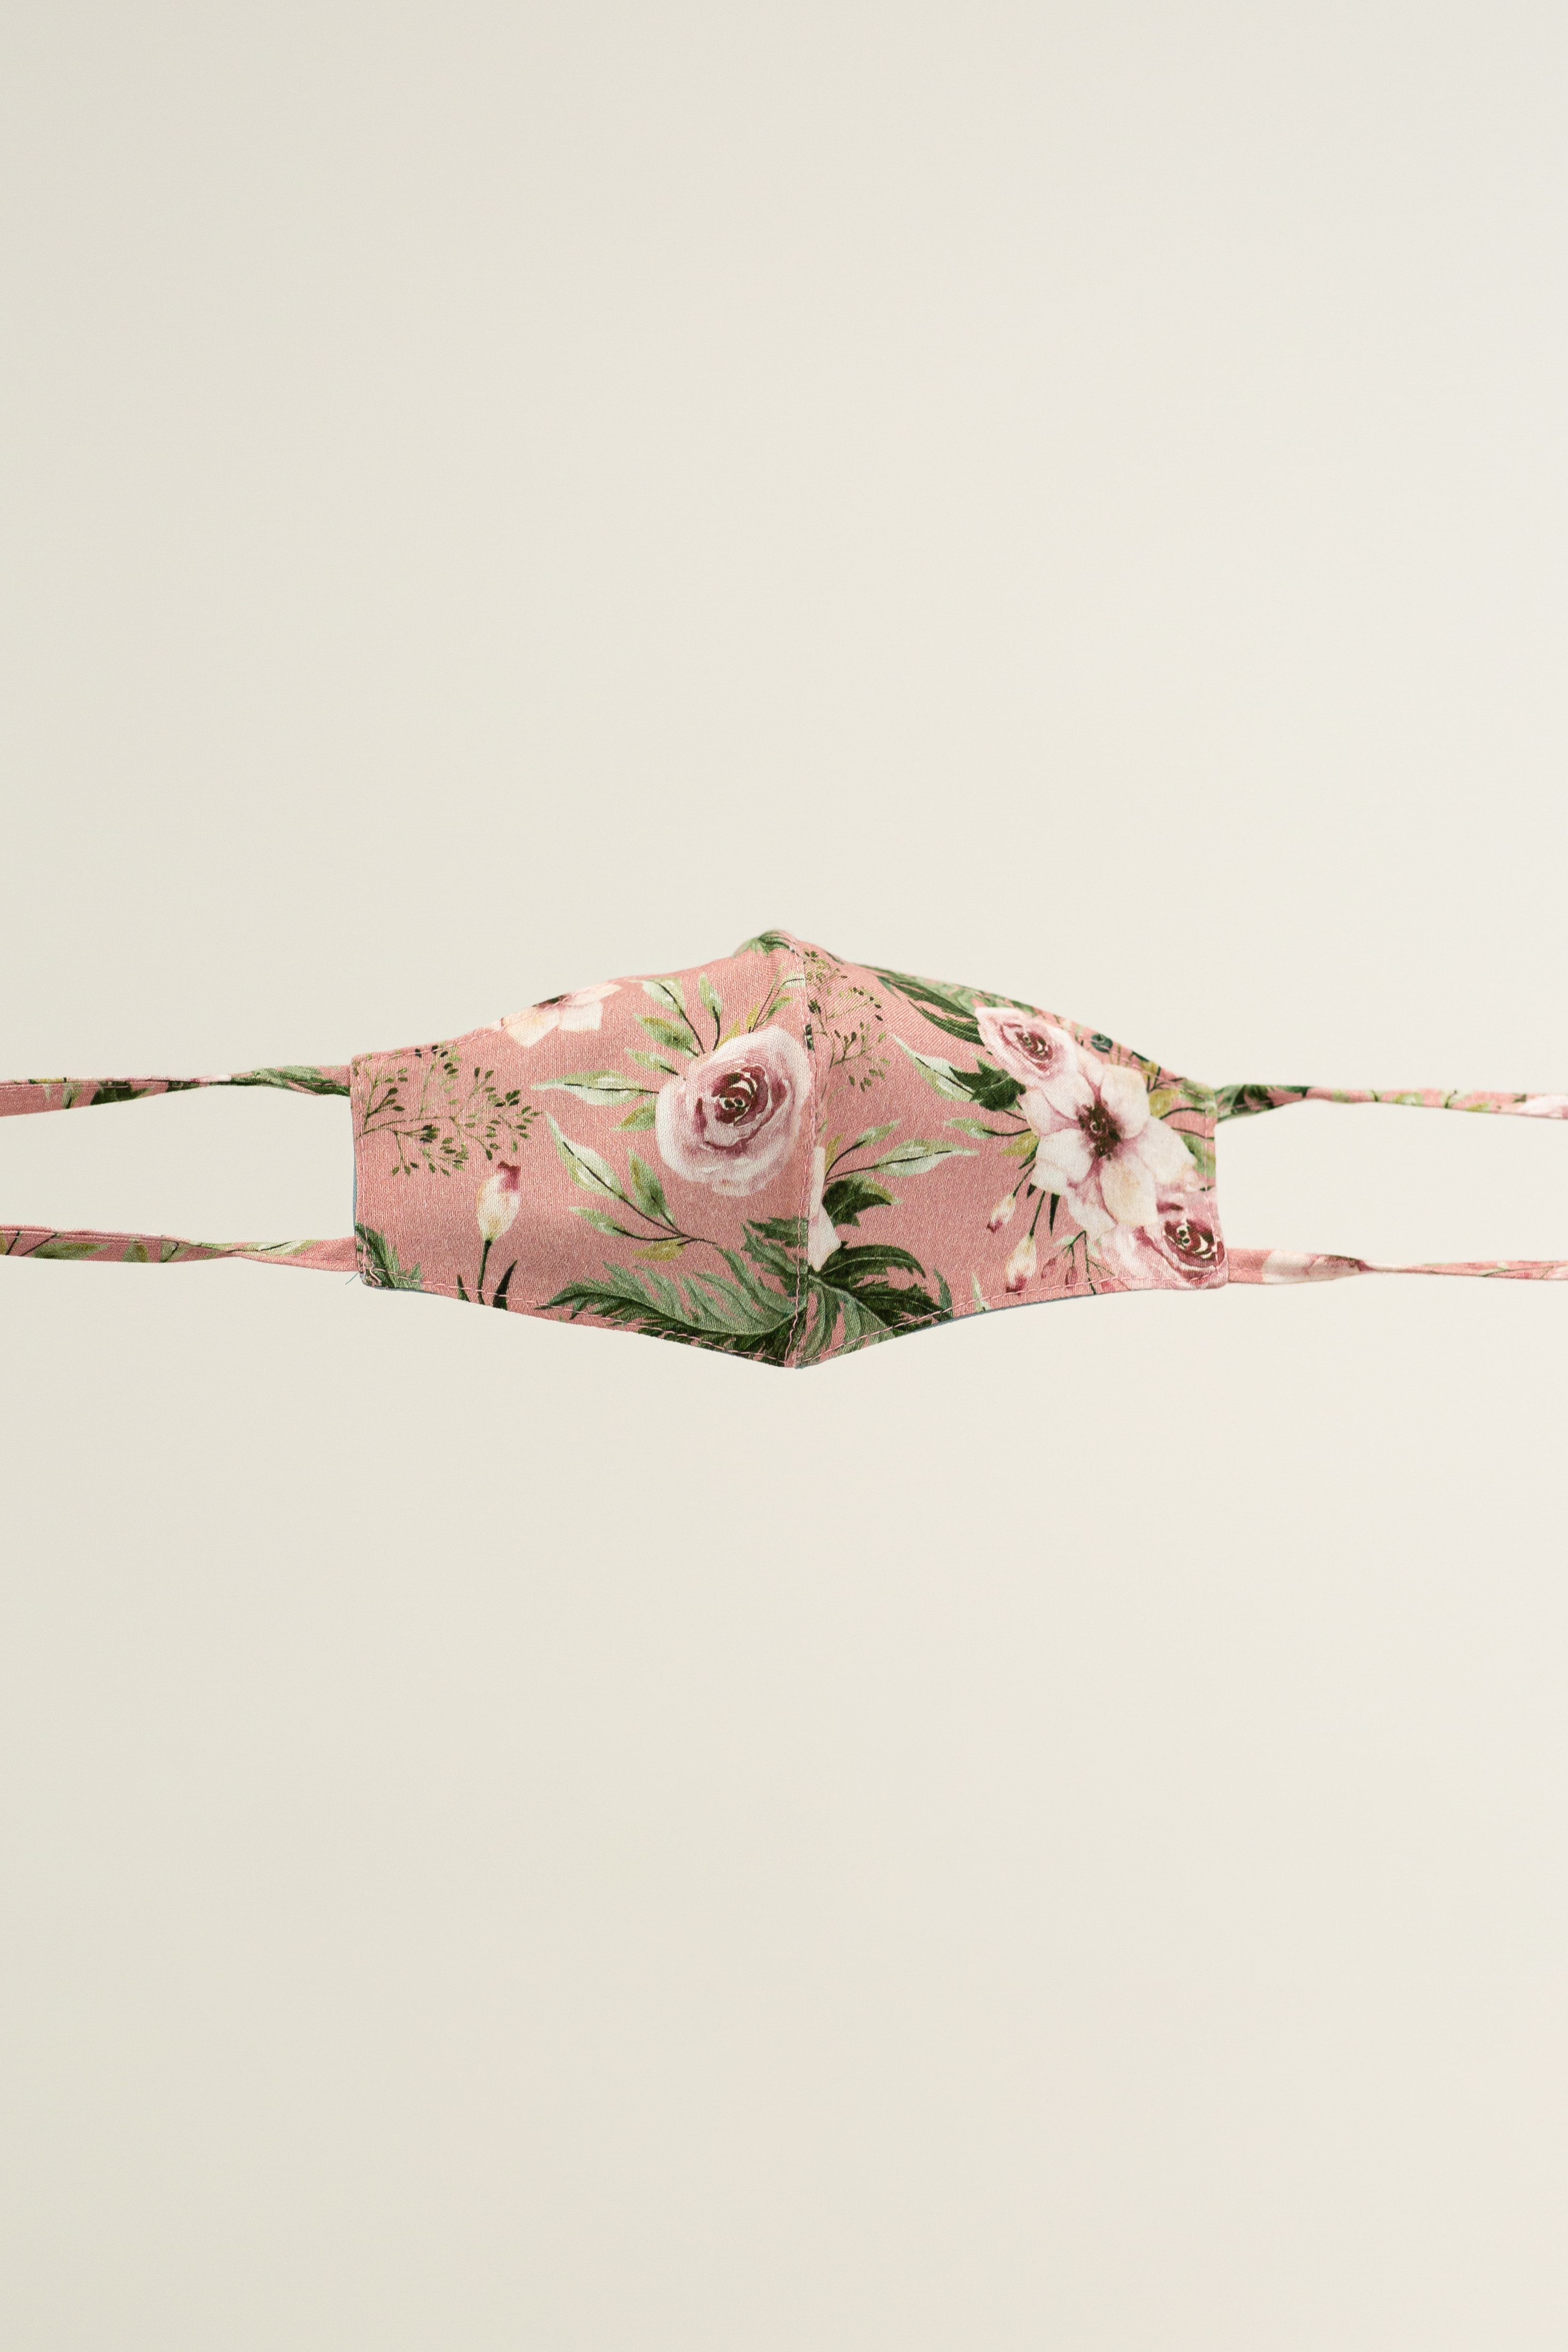mask: (164, 908, 1442, 1405)
